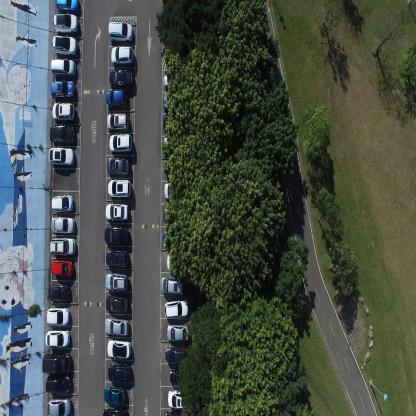car: (42, 352, 71, 374), (51, 34, 78, 56), (49, 236, 77, 256), (164, 298, 189, 320), (108, 21, 133, 43), (106, 338, 131, 360), (166, 251, 192, 272), (45, 373, 72, 393), (48, 146, 75, 166), (162, 228, 186, 250), (110, 44, 134, 66), (109, 68, 133, 90), (108, 131, 132, 153), (45, 327, 70, 348), (45, 306, 70, 327), (169, 366, 194, 386), (162, 206, 187, 226), (162, 91, 187, 111), (49, 124, 75, 143), (53, 13, 79, 32), (106, 88, 128, 110), (104, 384, 126, 406), (164, 344, 188, 364), (162, 134, 186, 154), (106, 156, 130, 176), (106, 294, 130, 314), (105, 316, 129, 336), (50, 258, 74, 278), (163, 181, 188, 200), (50, 216, 75, 235), (50, 80, 75, 99), (51, 58, 76, 77), (46, 397, 72, 415), (168, 388, 191, 408), (108, 178, 131, 198), (105, 225, 128, 245), (105, 272, 128, 292), (51, 193, 74, 213), (160, 275, 184, 294), (163, 69, 187, 88), (163, 113, 185, 133), (48, 282, 70, 302), (106, 112, 129, 131), (106, 249, 129, 268), (108, 363, 131, 382), (52, 102, 75, 121), (166, 323, 189, 341), (105, 203, 128, 221), (164, 160, 186, 177), (55, 0, 80, 14), (102, 408, 127, 416), (164, 408, 188, 416)
